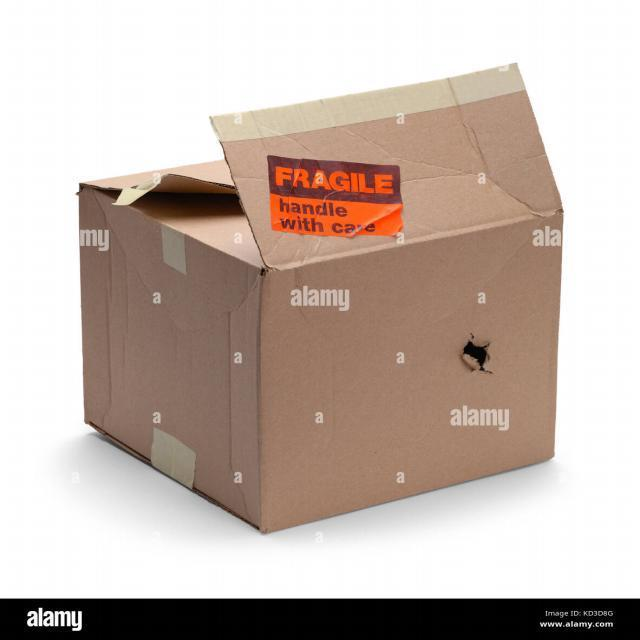damaged: (455, 328, 497, 380)
